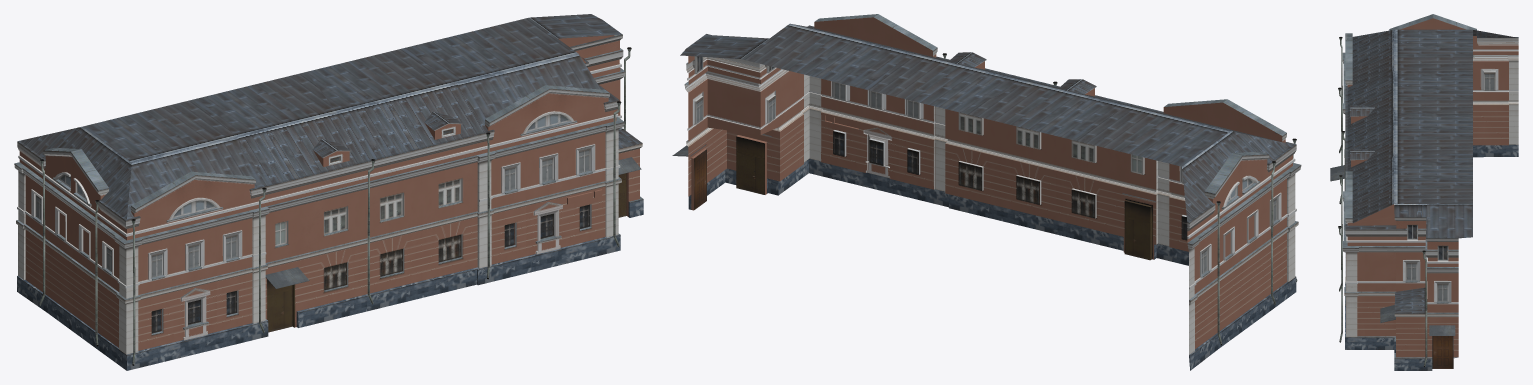
The model's file is alleyHouse1.fbx.
The picture shows the model from 3 angles, left to right: view 1: azimuth 30°, elevation 25°; view 2: azimuth 150°, elevation 25°; view 3: azimuth 270°, elevation 25°; orthographic projection. The views are drawn at different scales.
Visible parts, largest first — view 1: pasted__House_3_lod_0; view 2: pasted__House_3_lod_0; view 3: pasted__House_3_lod_0.
Boxes of the visible parts, x1,y1,x2,y2 form: pasted__House_3_lod_0: (14,14,643,370); pasted__House_3_lod_0: (672,14,1301,370); pasted__House_3_lod_0: (1330,14,1518,370).
Size of the model in its own units: 47.35 by 14.22 by 16.99.
